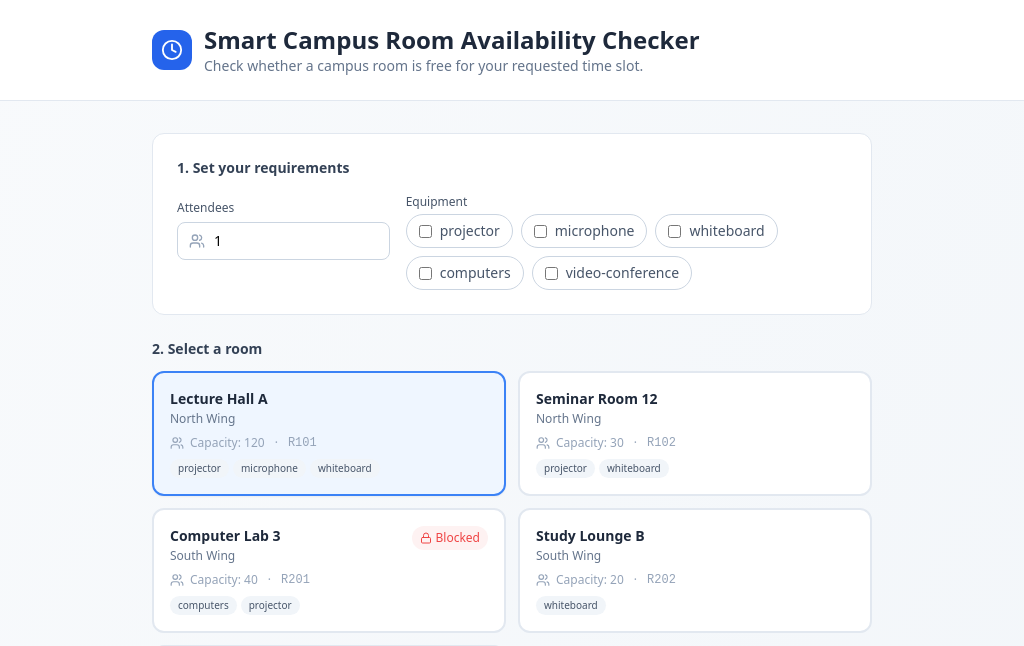
Test: shows an empty-state message when no room matches the requirements
The width and height of the screenshot is (1024, 646).
Replace the text in the number field labelled "Attendees" with "1000". click: (283, 241)
box: 177,222 -> 390,260
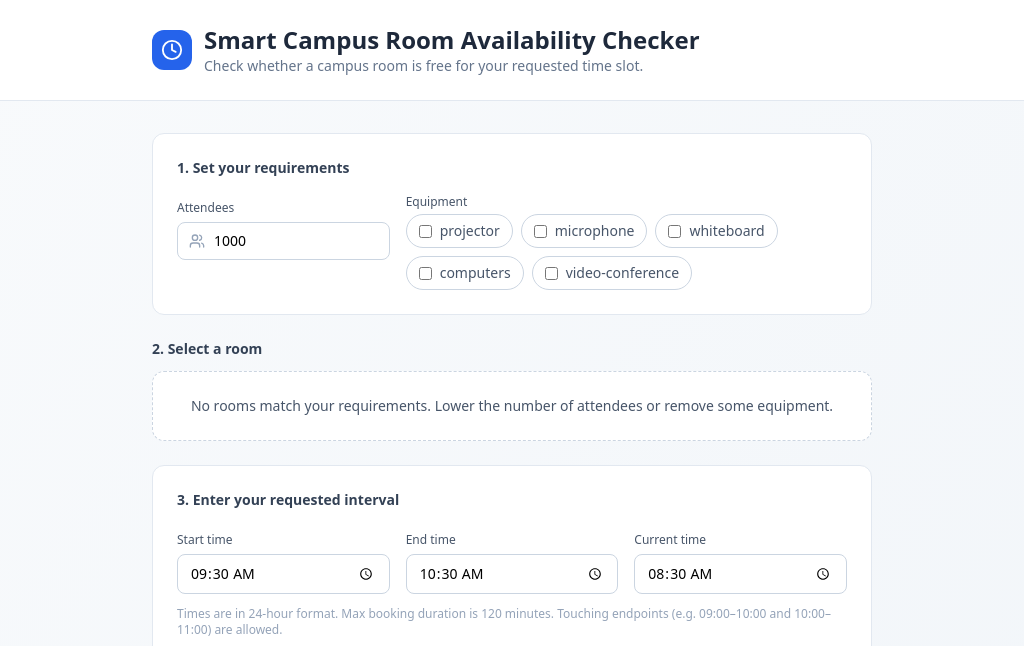
Expected: the text "No rooms match your requirements. Lower the number of attendees or remove some equipment." is shown, 191,396 -> 833,415
